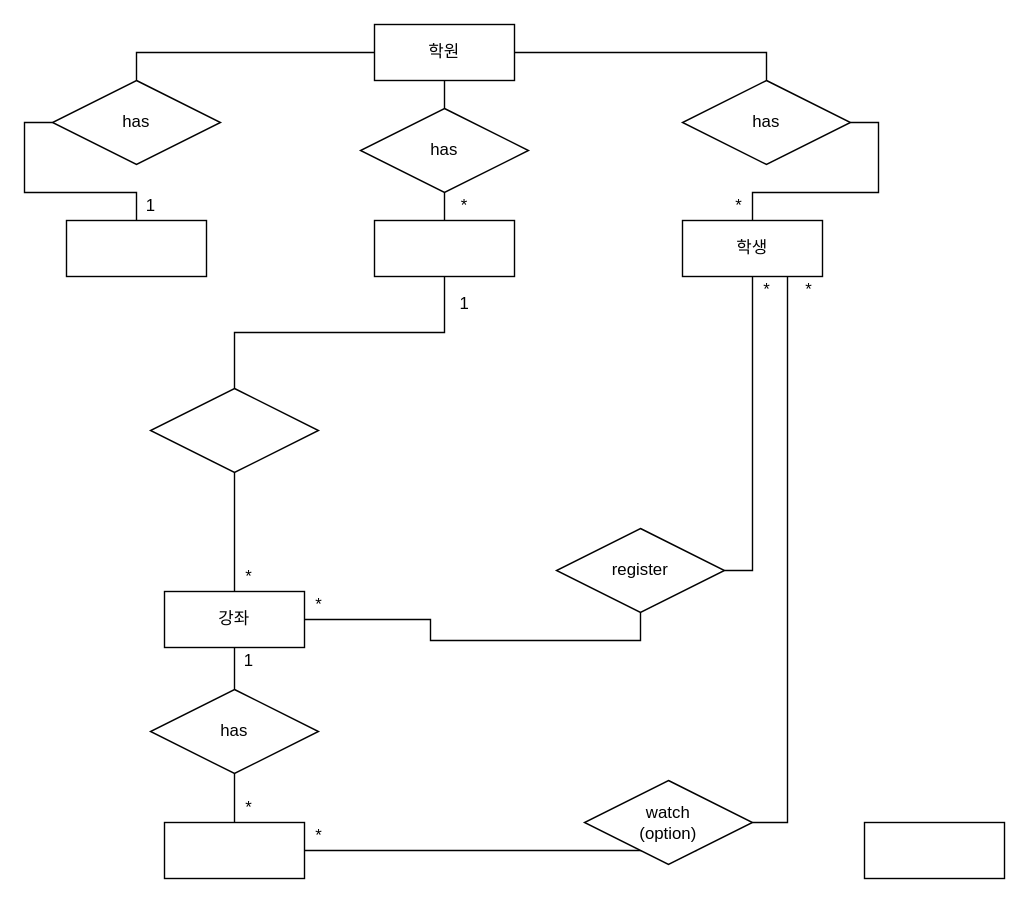
Image size: 1029x903. Some labels were removed from this diagram. The shapes that lost their labels are listed below. From the top down, each one's box as (x1, y1, x2, y2) in pixels, then its label:
(65, 219, 206, 276): 관리자
(373, 219, 514, 276): 선생님
(149, 387, 318, 472): create
(163, 821, 304, 878): 강의
(863, 821, 1004, 878): 공지글
